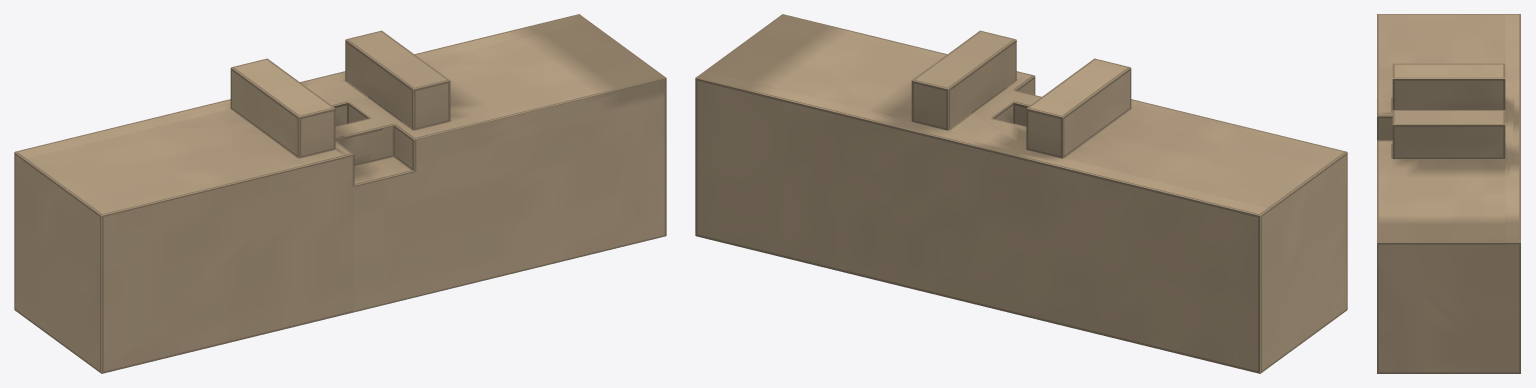
Rendered from girder-x.glb.
3 renders of one model, left to right at view 1: azimuth 30°, elevation 25°; view 2: azimuth 150°, elevation 25°; view 3: azimuth 270°, elevation 25°, orthographic. The views are drawn at different scales.
Parts seen in each view (by area): view 1: girder-x; view 2: girder-x; view 3: girder-x.
Part boxes in pixels (box(x1,y1,x2,y2)): girder-x: box(14, 14, 666, 373); girder-x: box(695, 14, 1347, 373); girder-x: box(1377, 14, 1520, 373).
Bounding box in the file's own units: 0.4508 × 0.152 × 0.1208.
